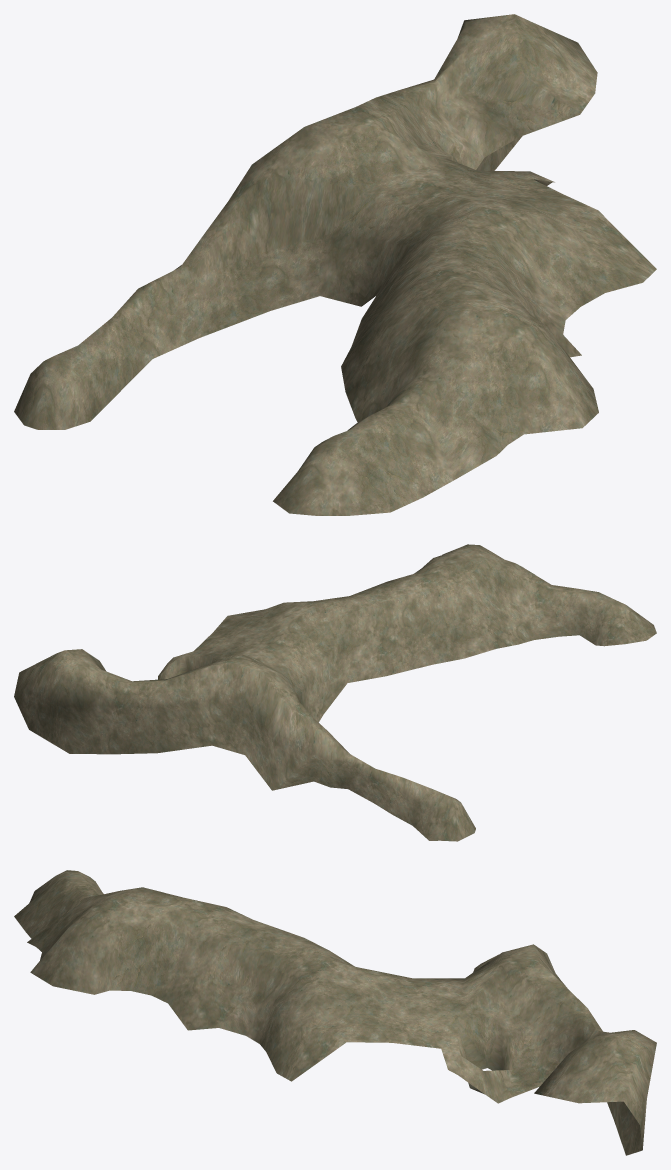
Rendered from EKH_THRONE_PS_TH_BACK_ROOF_01.fbx.
3 renders of one model, top to bottom at view 1: azimuth 30°, elevation 25°; view 2: azimuth 150°, elevation 25°; view 3: azimuth 270°, elevation 25°, orthographic. The views are drawn at different scales.
Visible parts, largest first — view 1: EKH_THRONE_PS_TH_BACK_ROOF_01; view 2: EKH_THRONE_PS_TH_BACK_ROOF_01; view 3: EKH_THRONE_PS_TH_BACK_ROOF_01.
Boxes of the visible parts, x1,y1,x2,y2 form: EKH_THRONE_PS_TH_BACK_ROOF_01: (14,14,656,515); EKH_THRONE_PS_TH_BACK_ROOF_01: (14,544,656,841); EKH_THRONE_PS_TH_BACK_ROOF_01: (14,870,656,1155).
Bounding box in the file's own units: 226689 × 76058 × 245946.
Materials: 1 (1 with a texture image).
